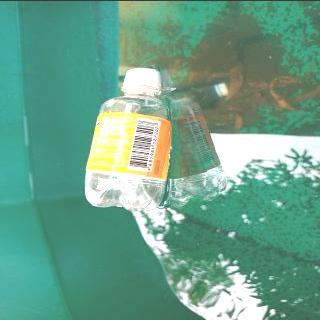bottle: (82, 66, 175, 210)
